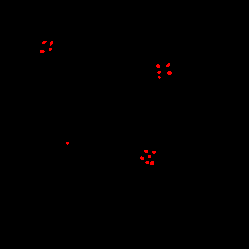Target: (167, 71, 172, 75), (166, 63, 170, 67), (156, 64, 160, 68), (140, 156, 144, 160), (150, 161, 154, 165), (42, 41, 47, 44), (50, 41, 53, 46), (40, 50, 45, 53), (157, 71, 161, 74), (144, 150, 148, 153), (152, 151, 156, 154), (145, 161, 149, 164), (49, 48, 52, 51), (158, 76, 161, 79), (66, 142, 69, 145), (148, 155, 151, 158)
